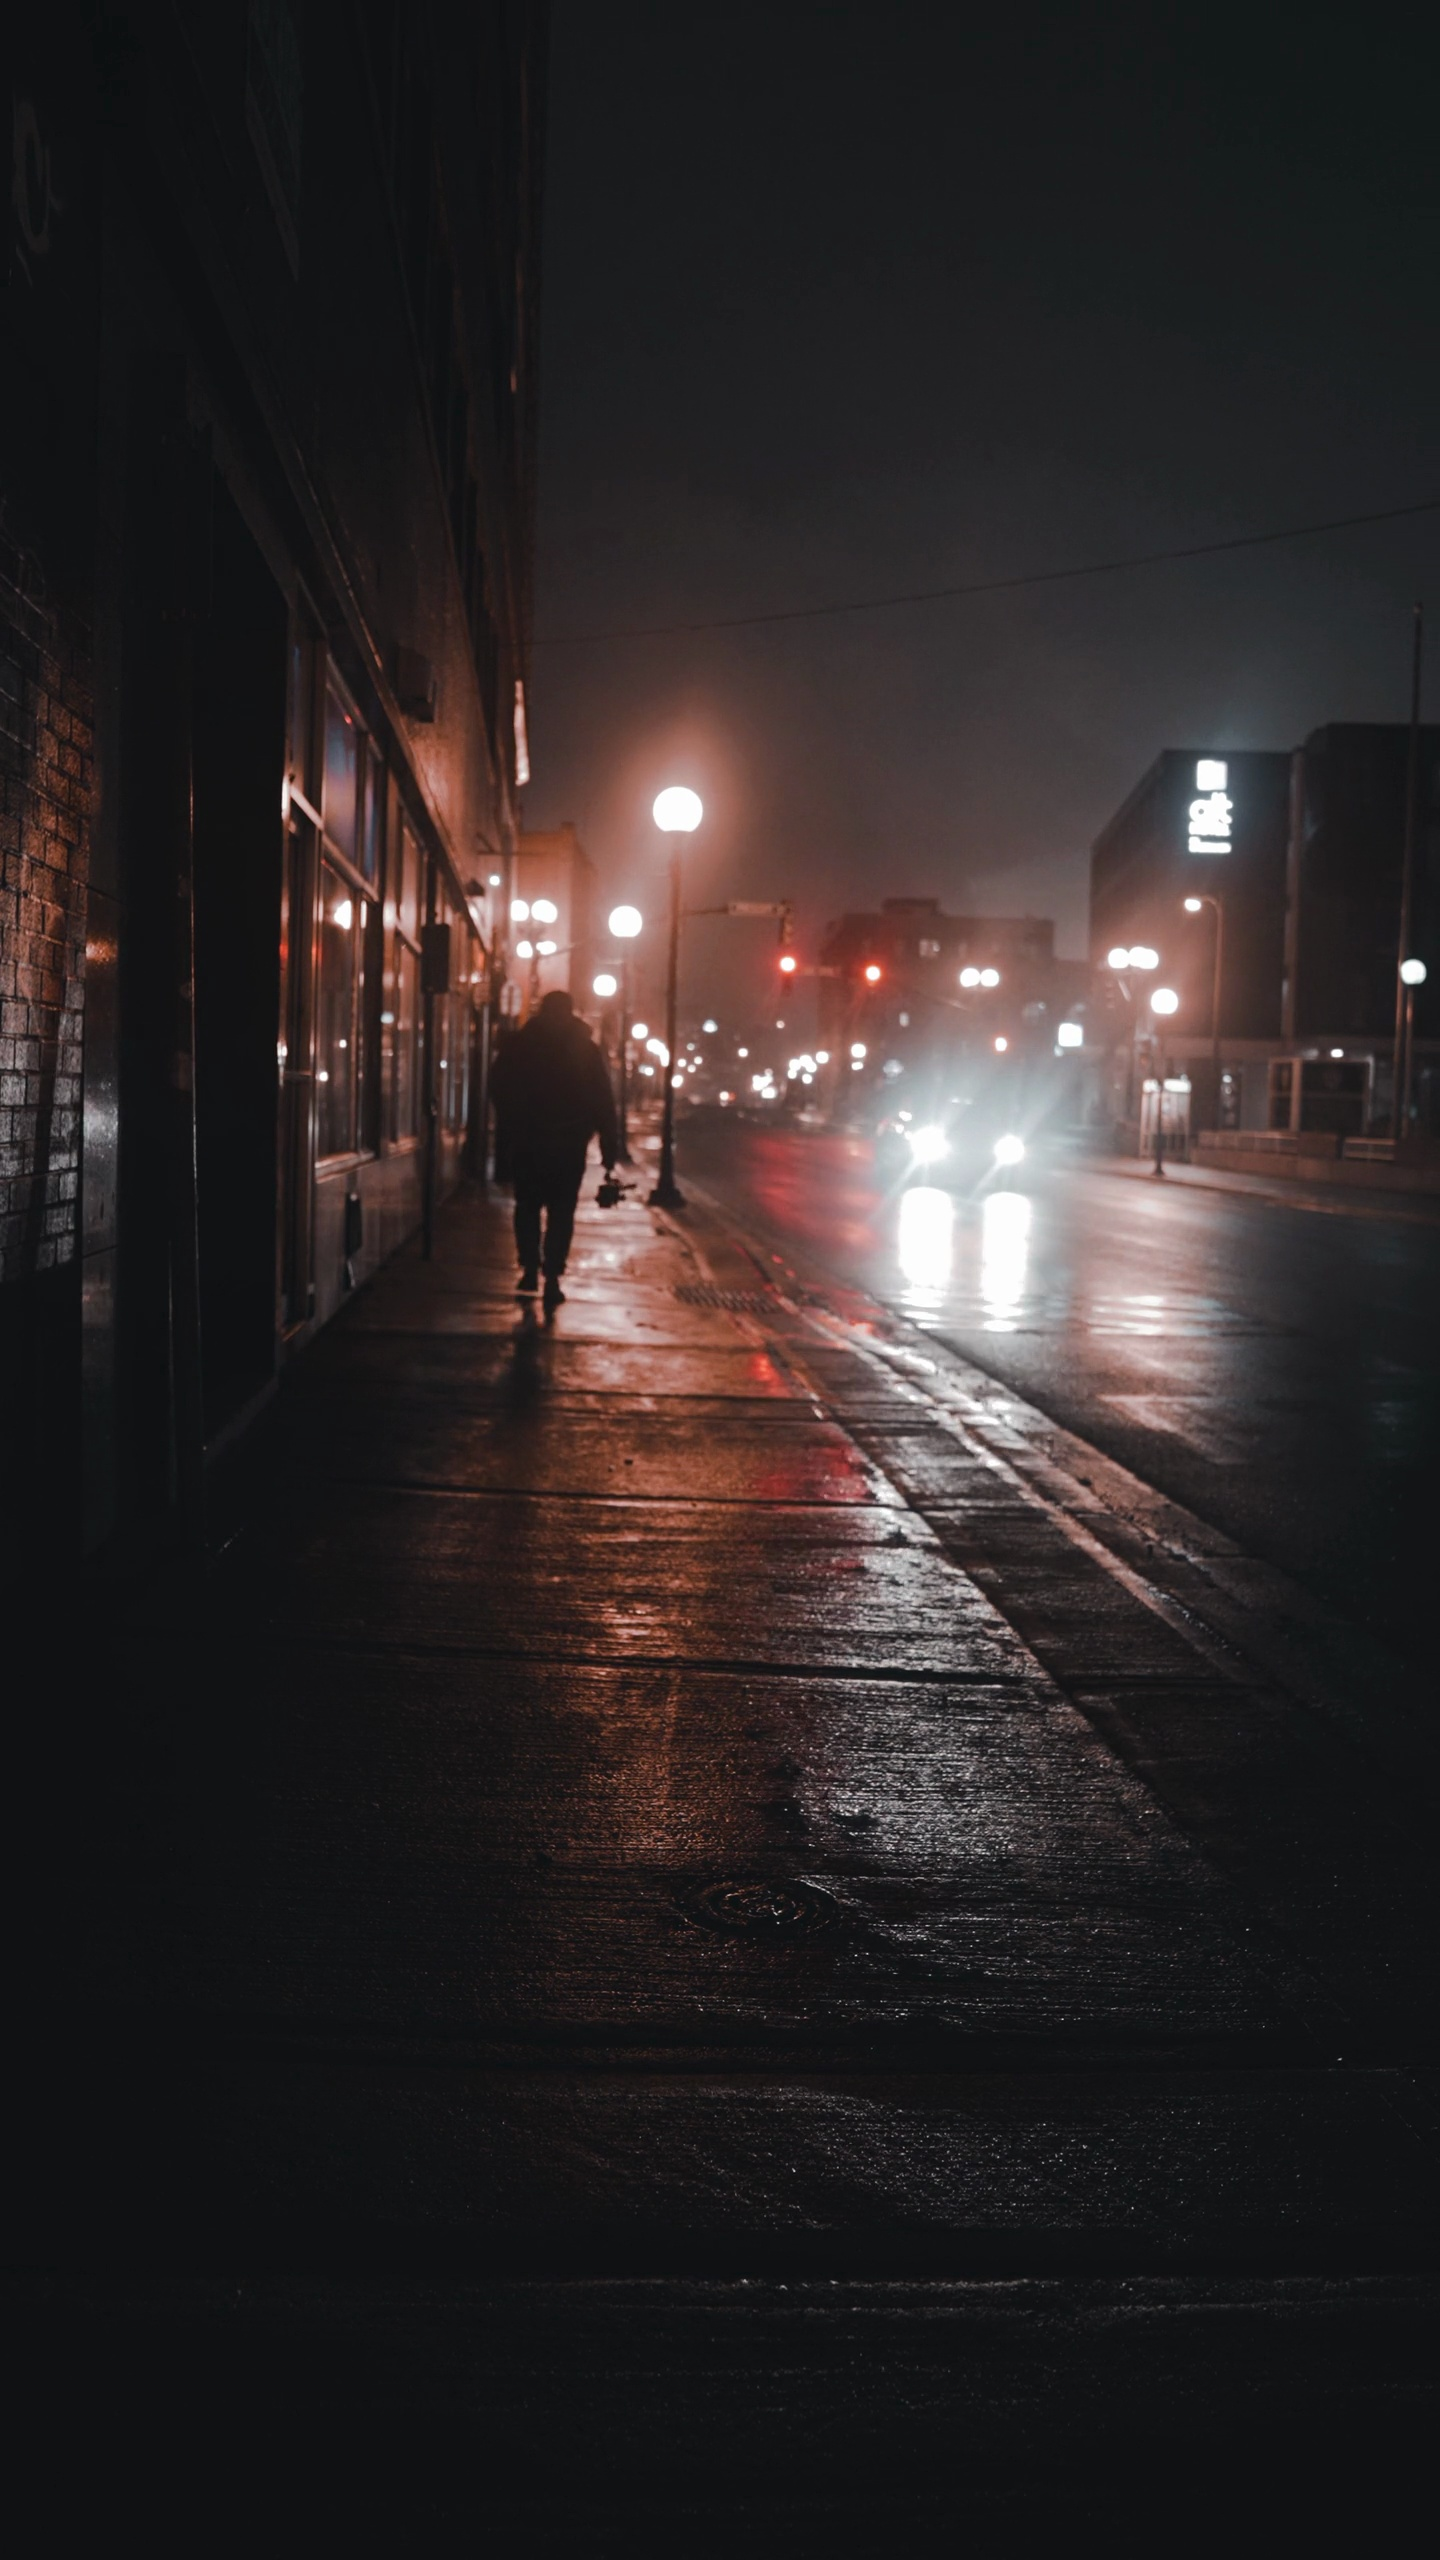person: (500, 996, 618, 1305)
